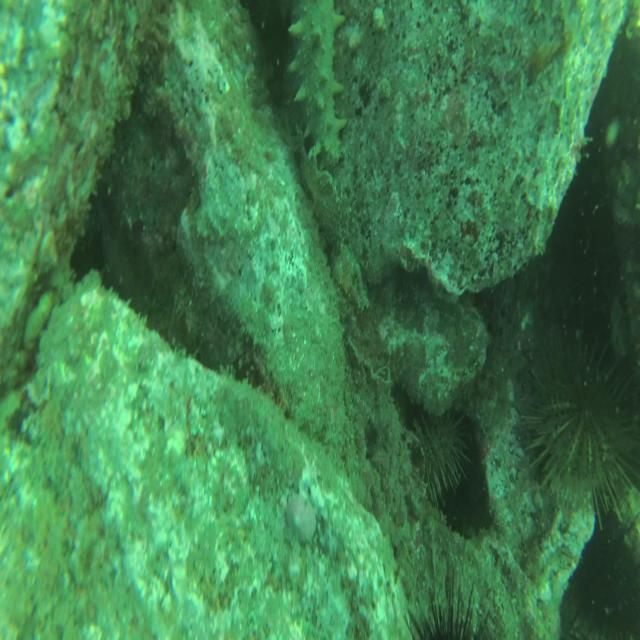echinus: (524, 324, 640, 529), (559, 533, 640, 640), (406, 404, 476, 509), (404, 572, 498, 640)
holothurian: (284, 0, 346, 174)
